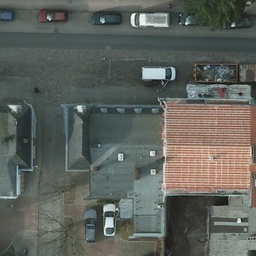car: (81, 211, 99, 245), (179, 11, 212, 28), (101, 203, 117, 236), (91, 11, 123, 26), (220, 15, 253, 29), (38, 9, 67, 23), (0, 8, 14, 21)
van: (130, 11, 171, 28), (142, 68, 175, 82)
